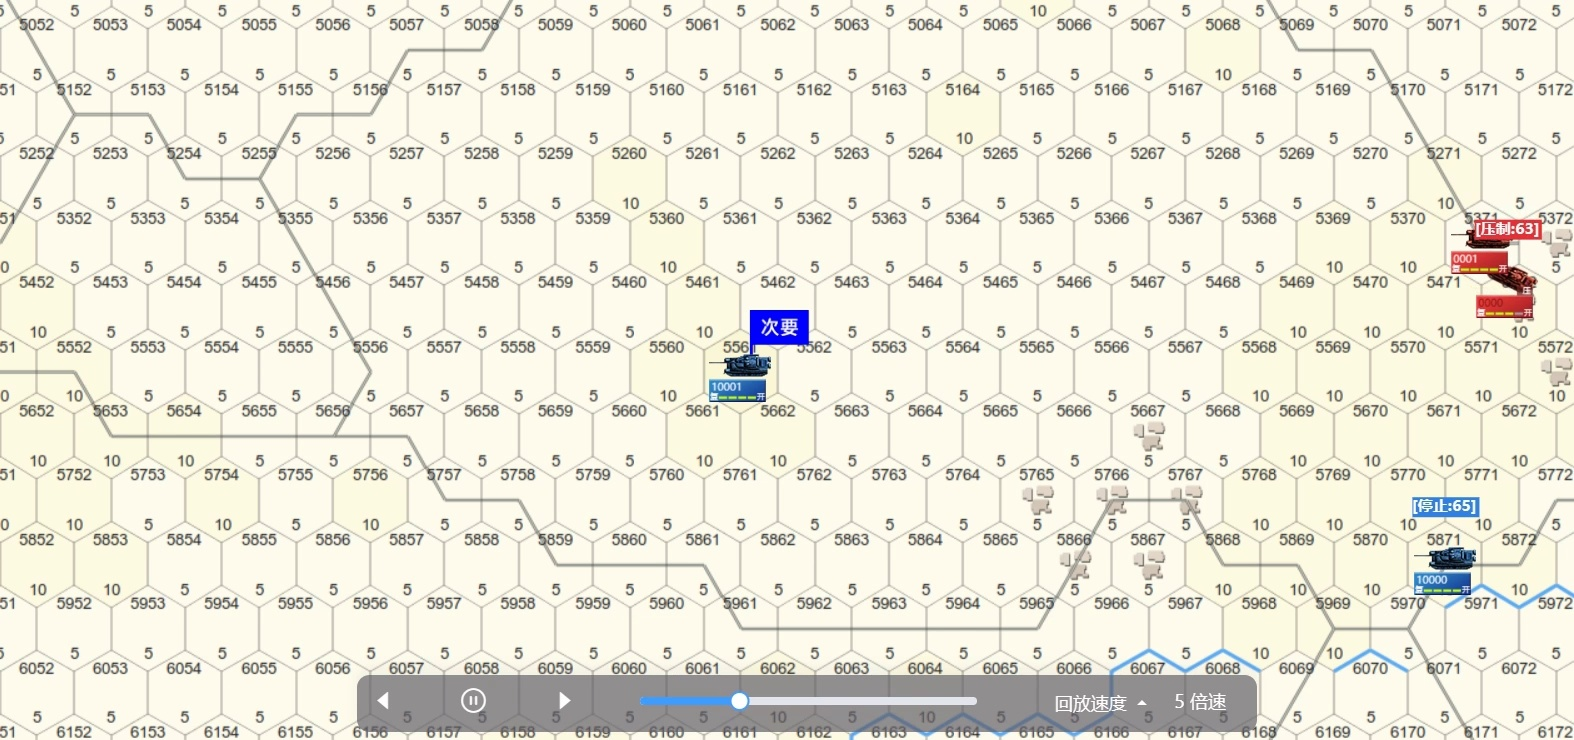blue_tank: (1412, 540, 1485, 603), (718, 353, 775, 400)
red_tank: (1472, 271, 1539, 323), (1447, 234, 1522, 278)
